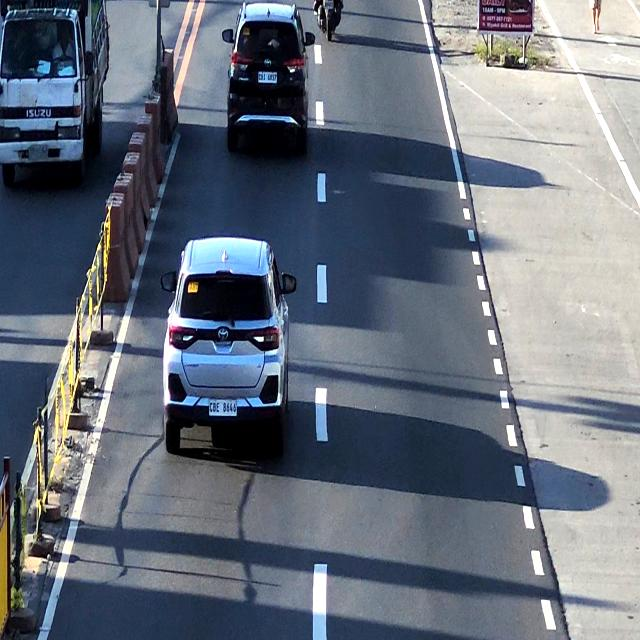Car: (162, 233, 290, 456), (222, 0, 308, 150)
License-Plate: (207, 398, 237, 416), (256, 70, 278, 88)
